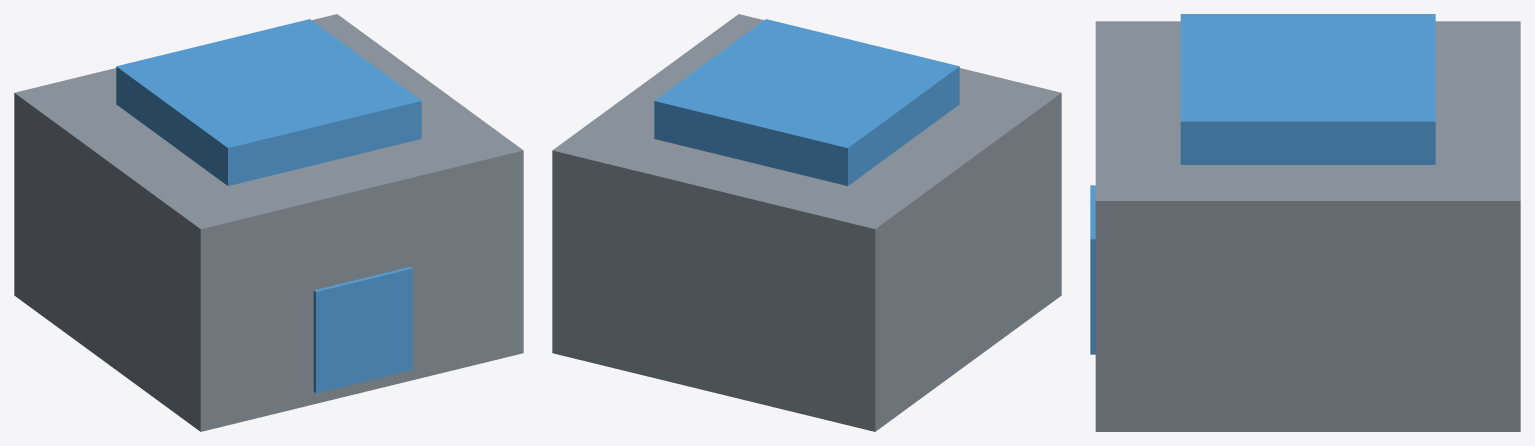
File: SM_Alliance_AL_ConYard_Blockout.fbx
The picture shows the model from 3 angles, left to right: view 1: azimuth 30°, elevation 25°; view 2: azimuth 150°, elevation 25°; view 3: azimuth 270°, elevation 25°; orthographic projection. The views are drawn at different scales.
Visible parts, largest first — view 1: MainBuilding, RoofStructure, EntranceGate; view 2: MainBuilding, RoofStructure; view 3: MainBuilding, RoofStructure, EntranceGate.
Part boxes in pixels (x1=…): MainBuilding: x1=14, y1=14, x2=523, y2=431; RoofStructure: x1=116, y1=19, x2=421, y2=185; EntranceGate: x1=313, y1=267, x2=412, y2=393; MainBuilding: x1=552, y1=14, x2=1061, y2=431; RoofStructure: x1=654, y1=19, x2=959, y2=185; MainBuilding: x1=1095, y1=21, x2=1520, y2=431; RoofStructure: x1=1180, y1=14, x2=1435, y2=164; EntranceGate: x1=1090, y1=185, x2=1095, y2=354.
Bounding box in the file's own units: 800 × 570 × 810.
